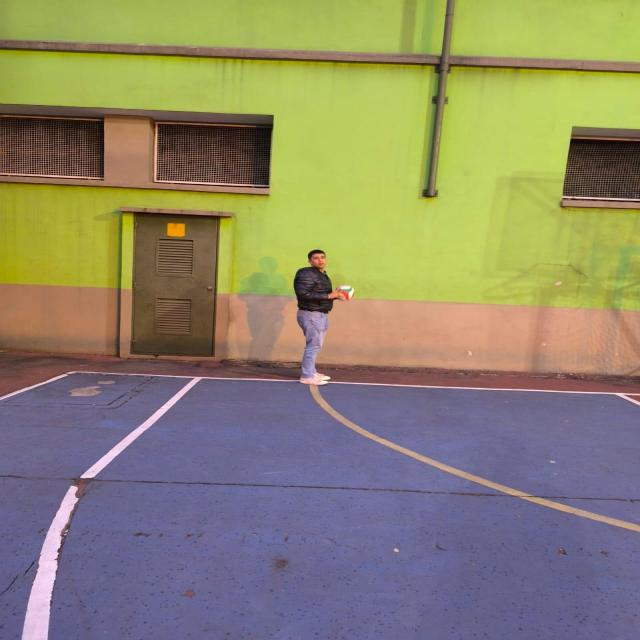volleyball: (338, 285, 354, 301)
